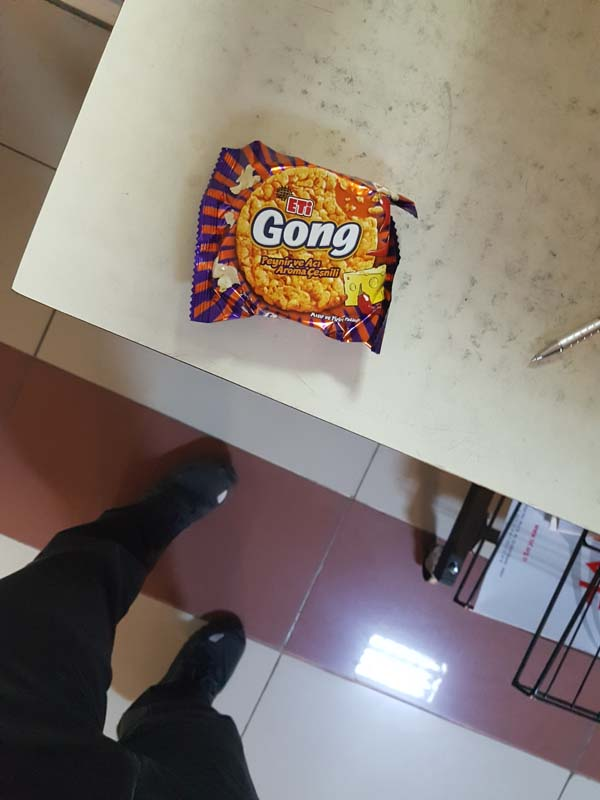etigong: (184, 141, 428, 354)
